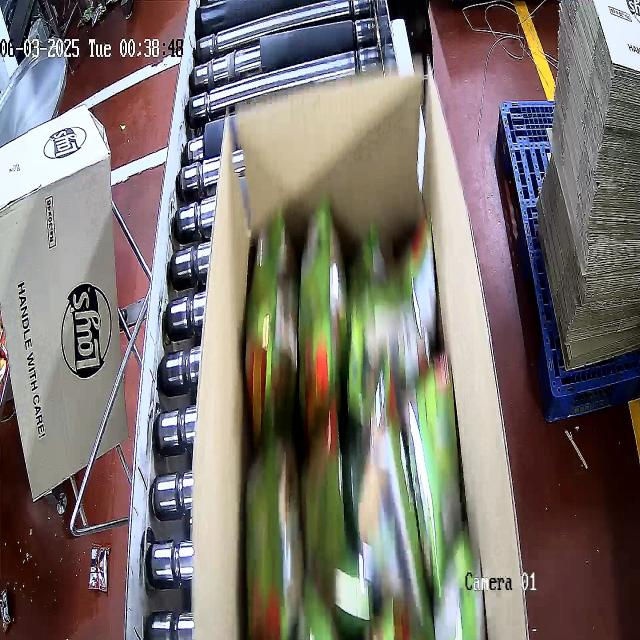YOGURT_HERB: (243, 212, 475, 638)
